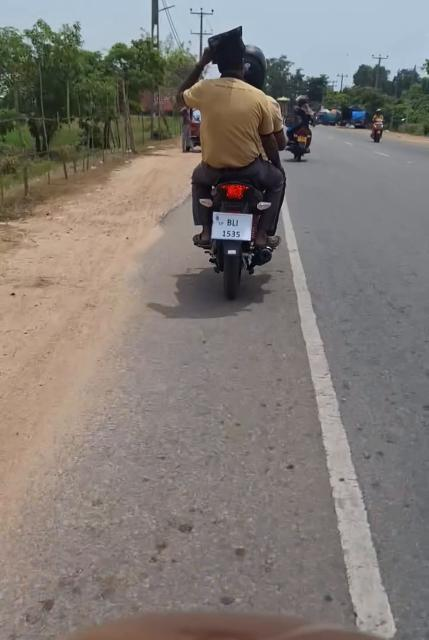no helmet: (214, 29, 255, 89)
number plate: (202, 210, 269, 254)
